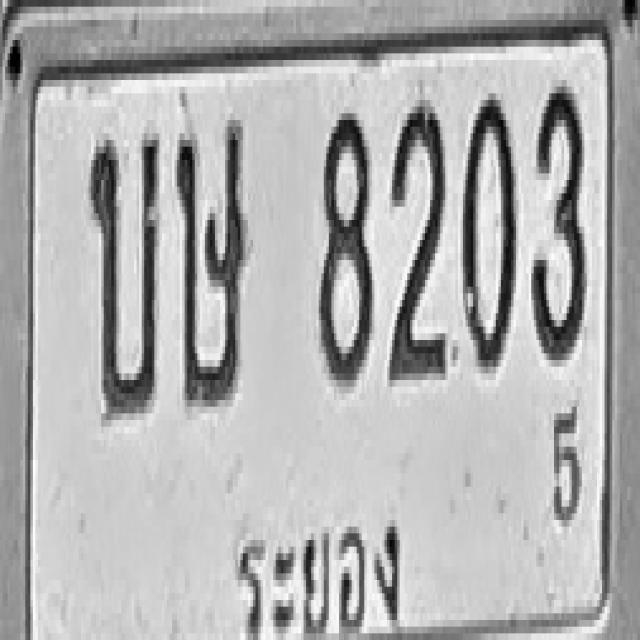0: (460, 90, 516, 370)
2: (388, 97, 446, 383)
3: (532, 80, 584, 360)
35BorBaiMai: (89, 133, 160, 420)
48SorRueSi: (174, 117, 248, 410)
8: (319, 106, 372, 386)
Rayong: (220, 500, 410, 640)
